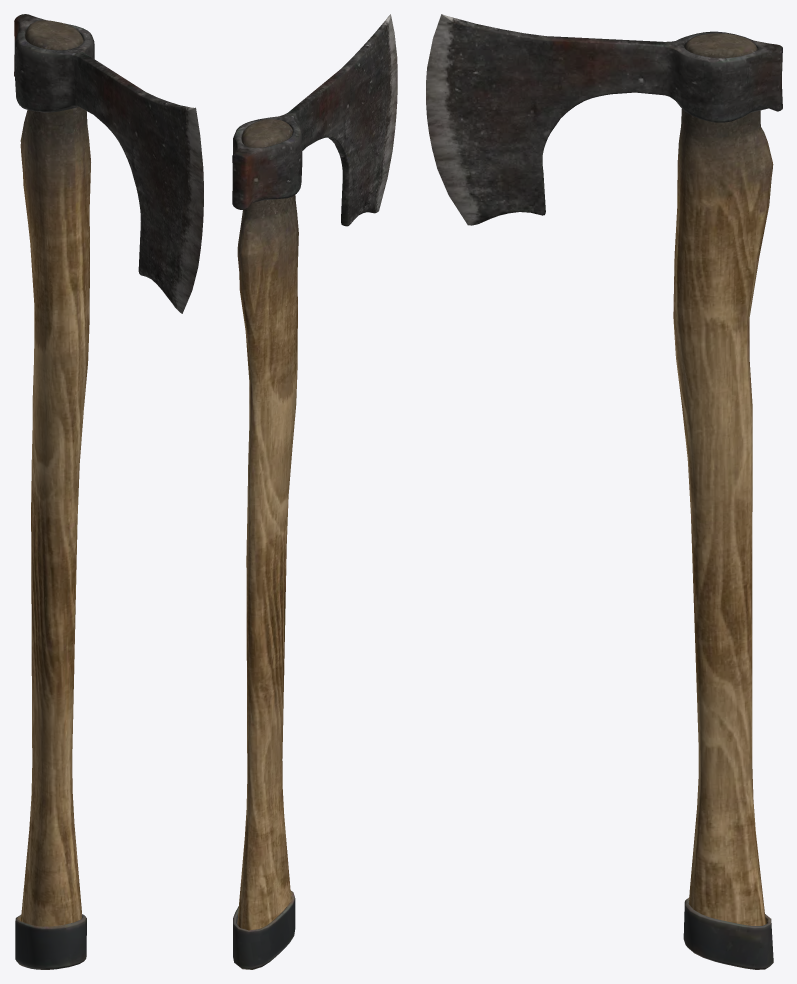
The model's file is wooden_axe.glb.
3 renders of one model, left to right at view 1: azimuth 30°, elevation 25°; view 2: azimuth 150°, elevation 25°; view 3: azimuth 270°, elevation 25°, orthographic. The views are drawn at different scales.
Visible parts, largest first — view 1: wooden_axe; view 2: wooden_axe; view 3: wooden_axe.
Part boxes in pixels (box(x1,y1,x2,y2)): wooden_axe: box(14, 14, 203, 969); wooden_axe: box(232, 14, 397, 969); wooden_axe: box(426, 14, 782, 969).
Bounding box in the file's own units: 0.0472 × 0.6303 × 0.2143.
1 material, 1 textured.
